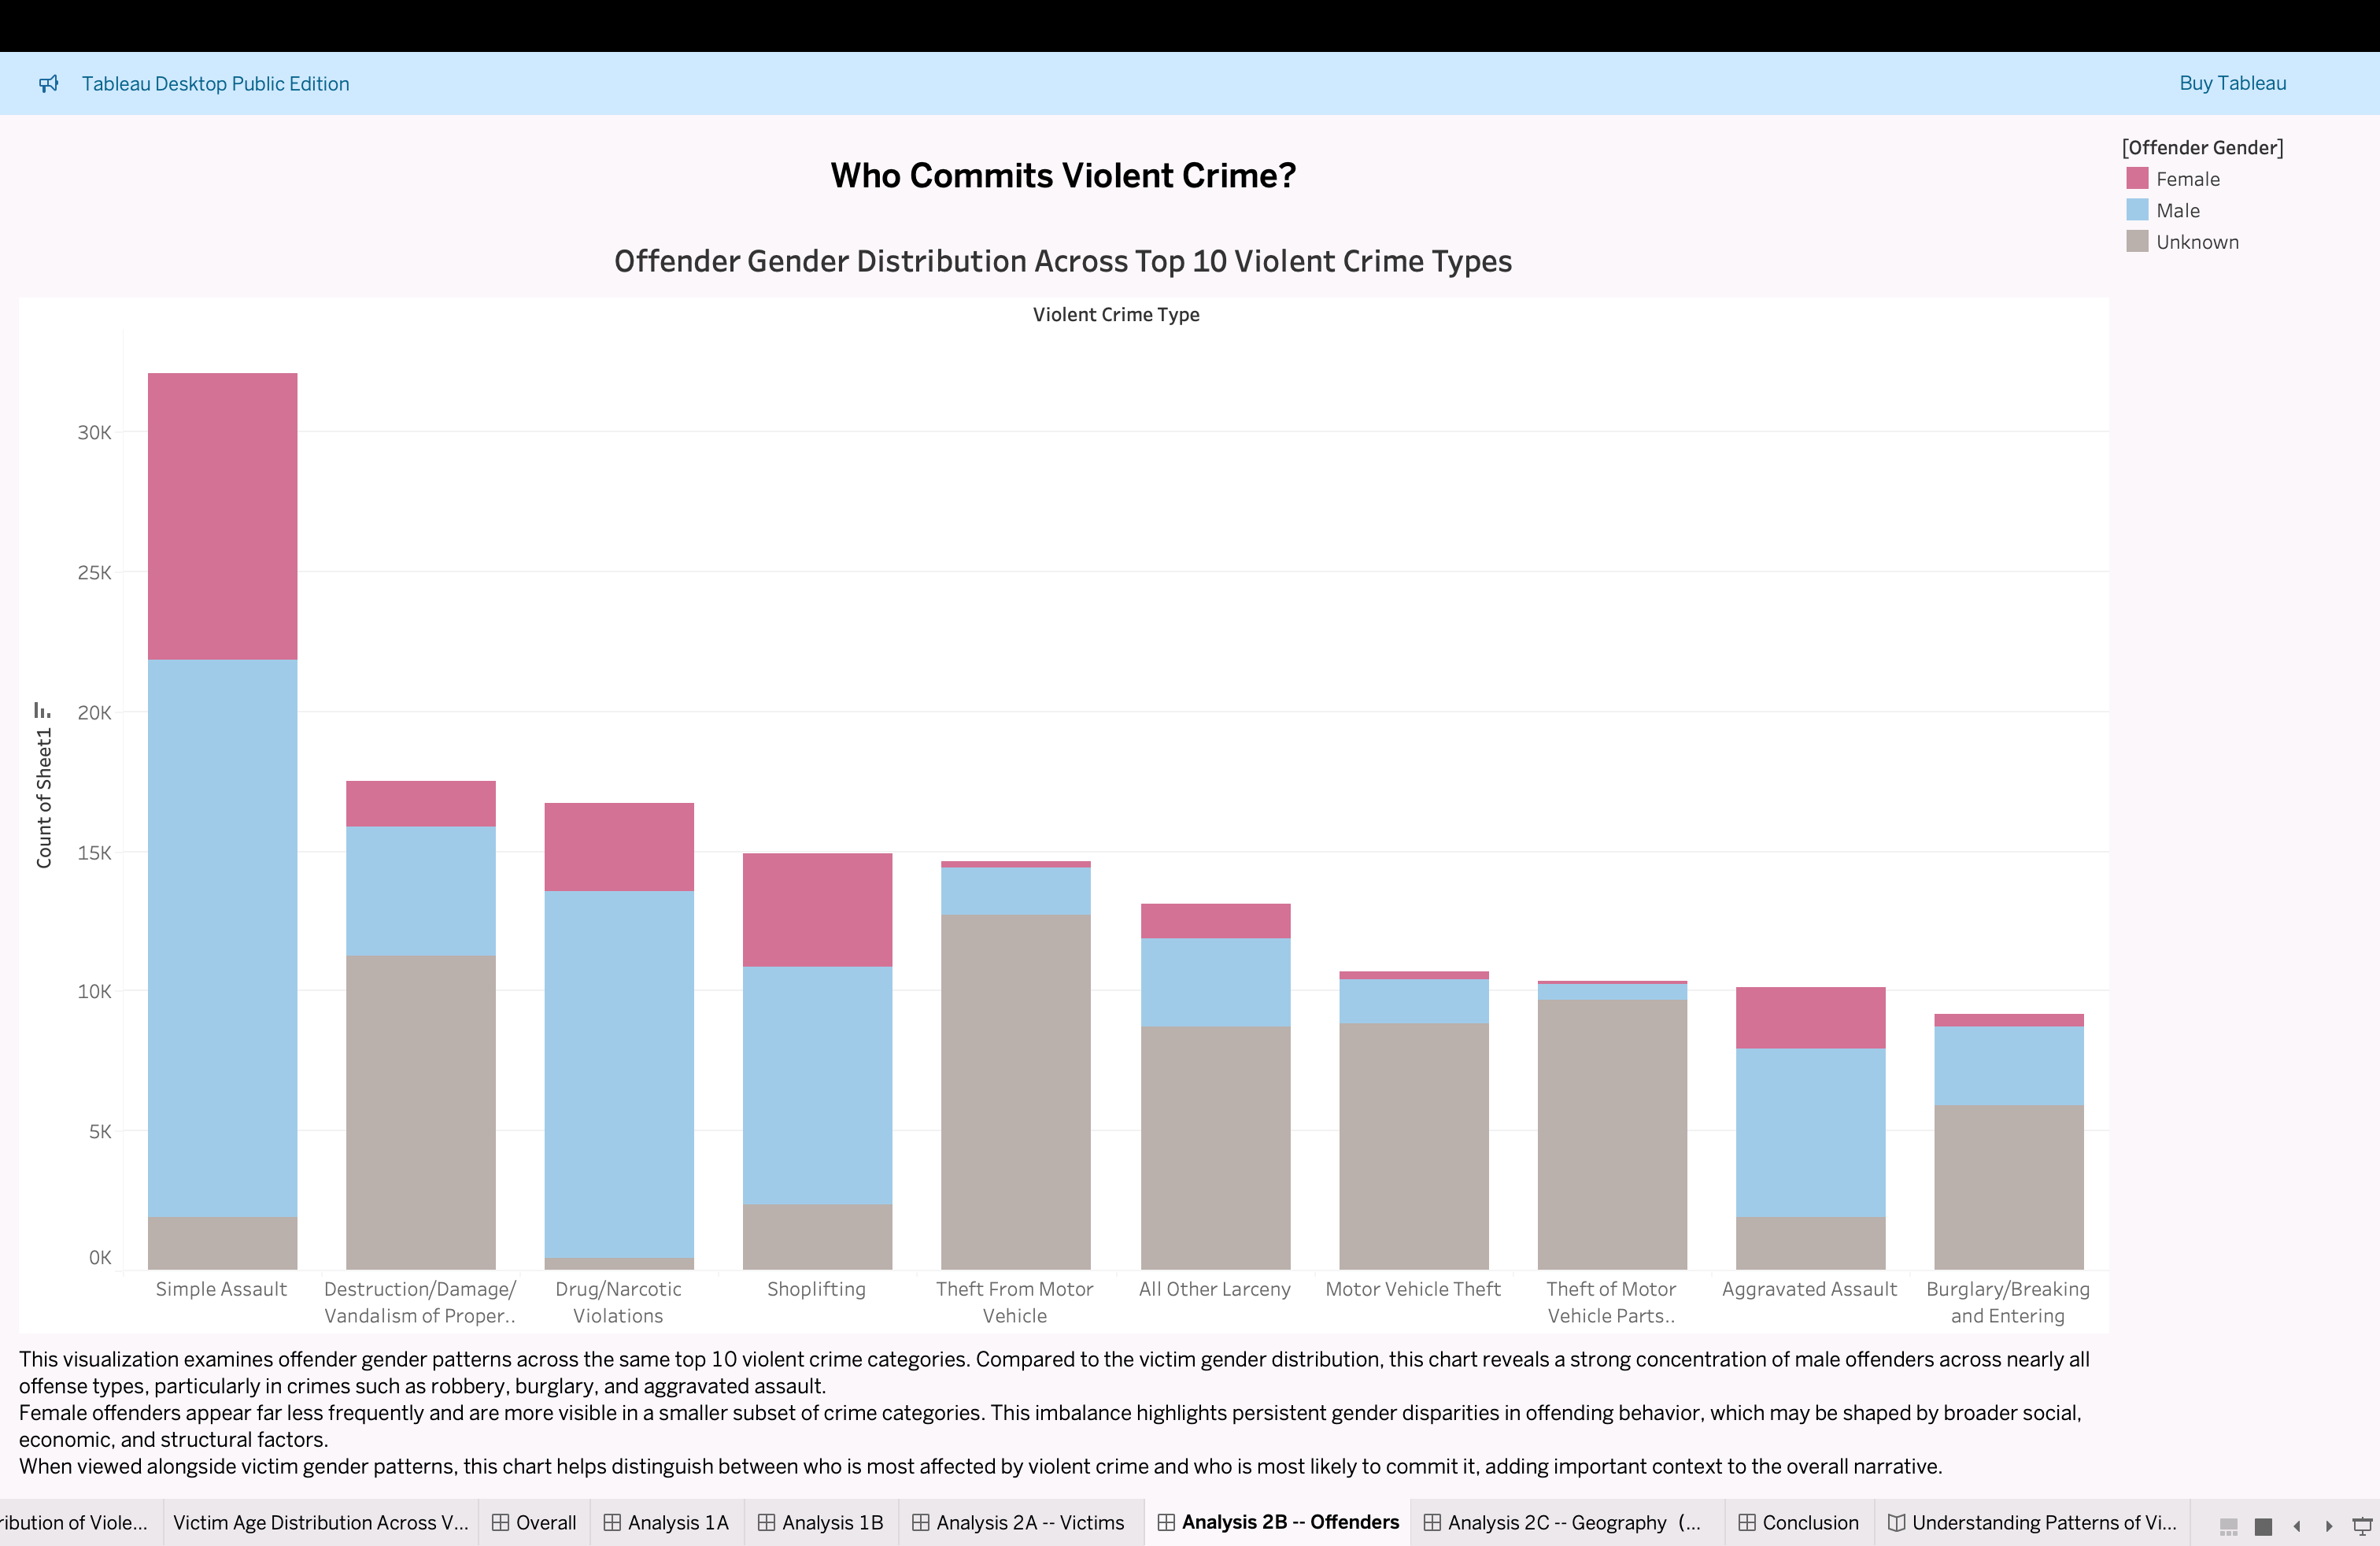

The page's visual inventory and layout, read from the dashboard file:
{"tool":"tableau","page":{"name":"Analysis 2B -- Offenders","canvas":[1000,1000],"units":"permille","ordinal":3},"visuals":[{"type":"text","box":[5.3,9.1,883.6,71.4]},{"type":"legend","title":"Offender Gender Distribution Across Top 10 Violent Crime Types","param":"[federated.1p1e0dx1s247zc1csf53d0xrrefi].[none:Calculation_1882012074648993796:n","box":[888.9,9.1,105.8,98.3]},{"type":"worksheet","title":"Offender Gender Distribution Across Top 10 Violent Crime Types","mark":"Bar","rows":["Sheet1_C70B4A50ED87482583BFEB3E06CA7164"],"cols":["ViolentCrimeType"],"box":[5.3,80.6,883.6,910.3]}]}

Visuals, with their boxes on the dashboard's canvas, which has no fixed pixel size, in thousandths of its width and height (x1, y1, x2, y2). These are canvas units, not pixel positions in the 2380x1546 screenshot, which may show the page scaled, cropped or inside an application window:
text: l=5, t=9, r=889, b=80
"Offender Gender Distribution Across Top 10 Violent Crime Types" legend: l=889, t=9, r=995, b=107
"Offender Gender Distribution Across Top 10 Violent Crime Types" worksheet (Bar marks): l=5, t=81, r=889, b=991
